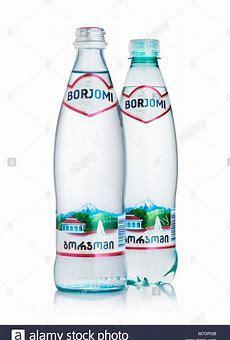bottle: (56, 21, 126, 295), (126, 35, 178, 287)
